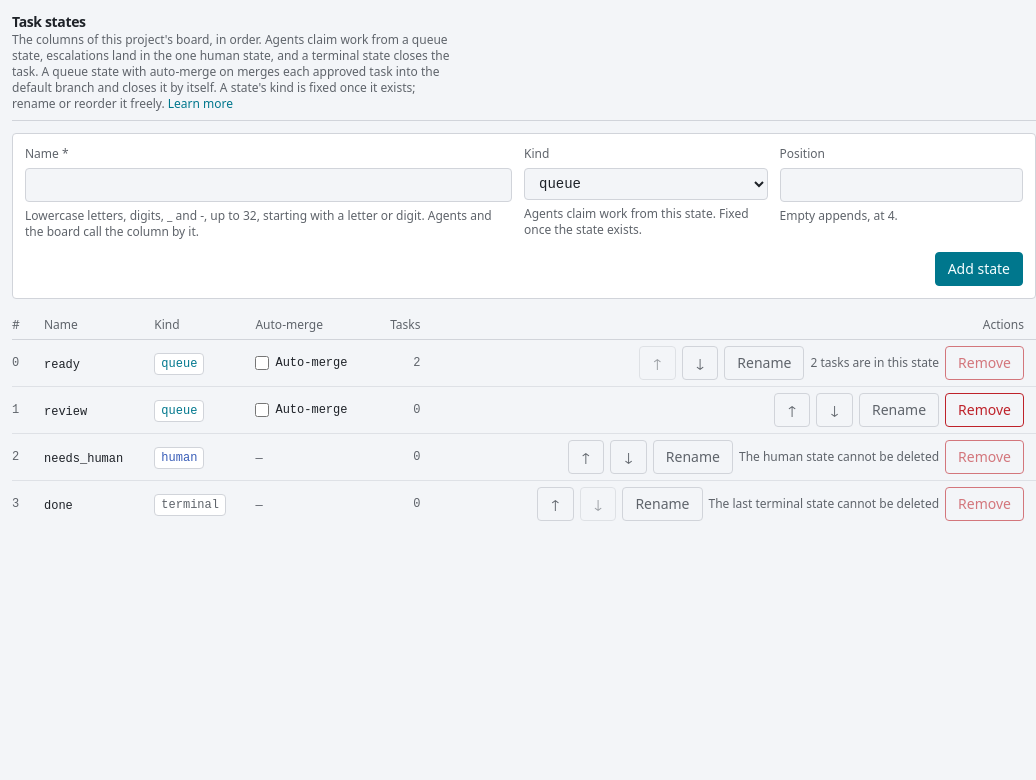
TaskStatesEditor › refuses an invalid name before the request goes out
Check: the text "ready" is shown, box [44,358,80,372]
Type "Needs Human" into the field labelled "Name *" at (268, 185), box [25,168,512,202]
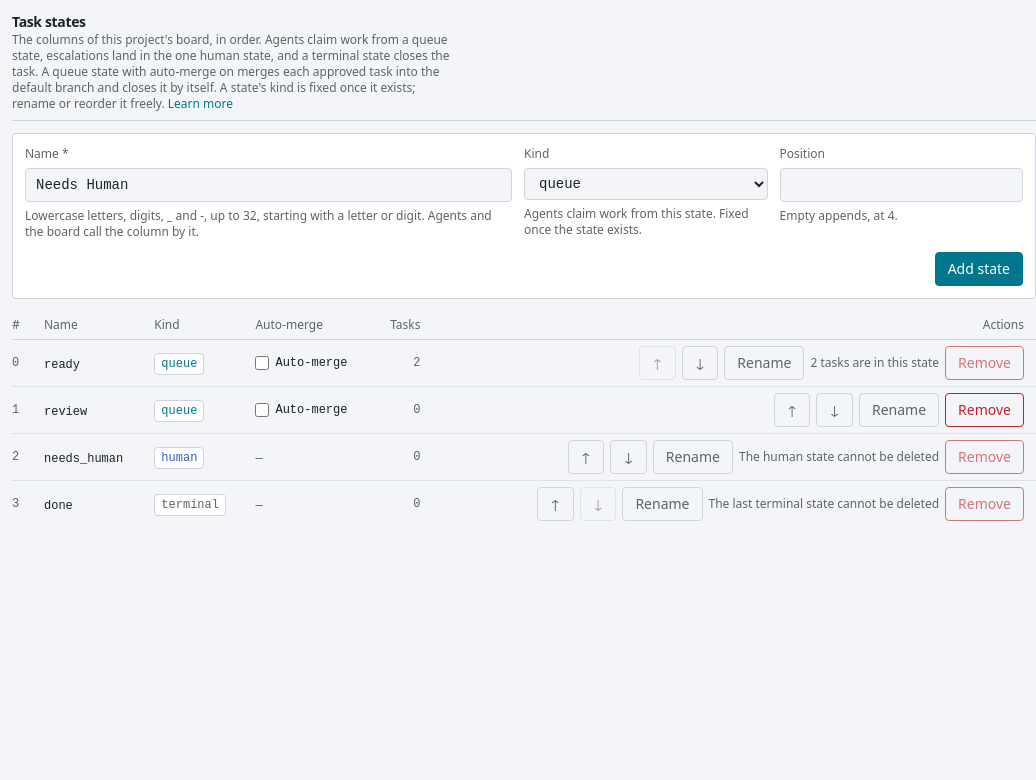
Click the button "Add state" at (979, 269), box [935,252,1023,286]
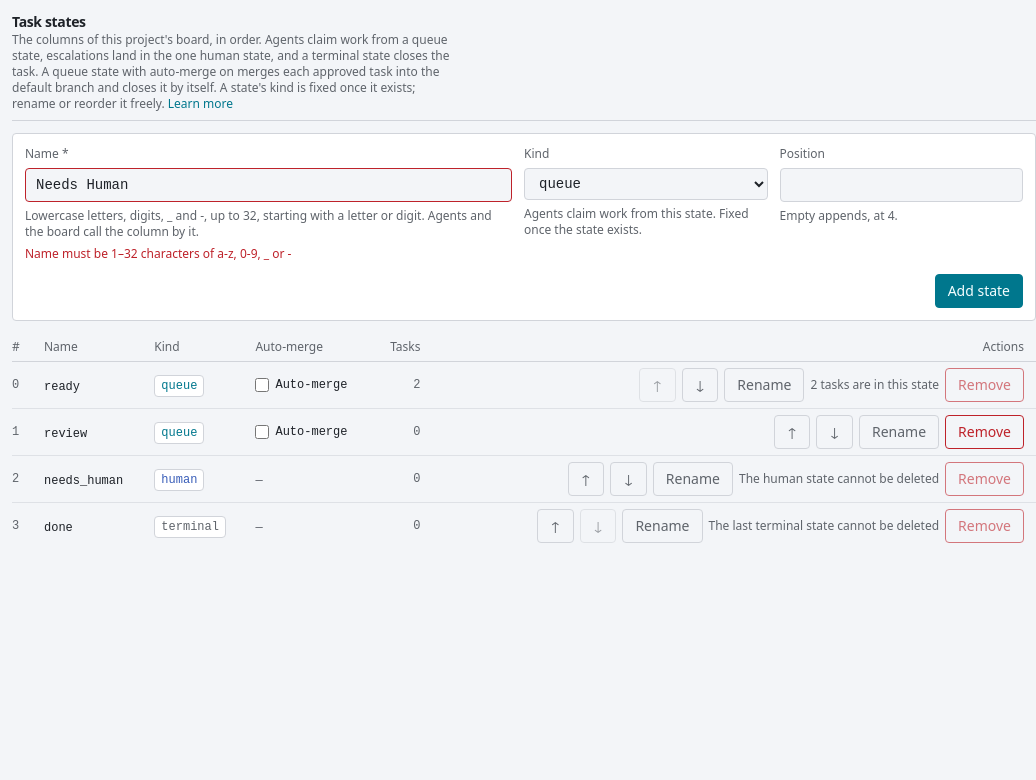
Check: the text "Name must be 1–32 characters of a-z, 0-9, _ or -" is shown, box [25,245,292,262]
